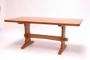obstacle: (4, 17, 79, 54)
